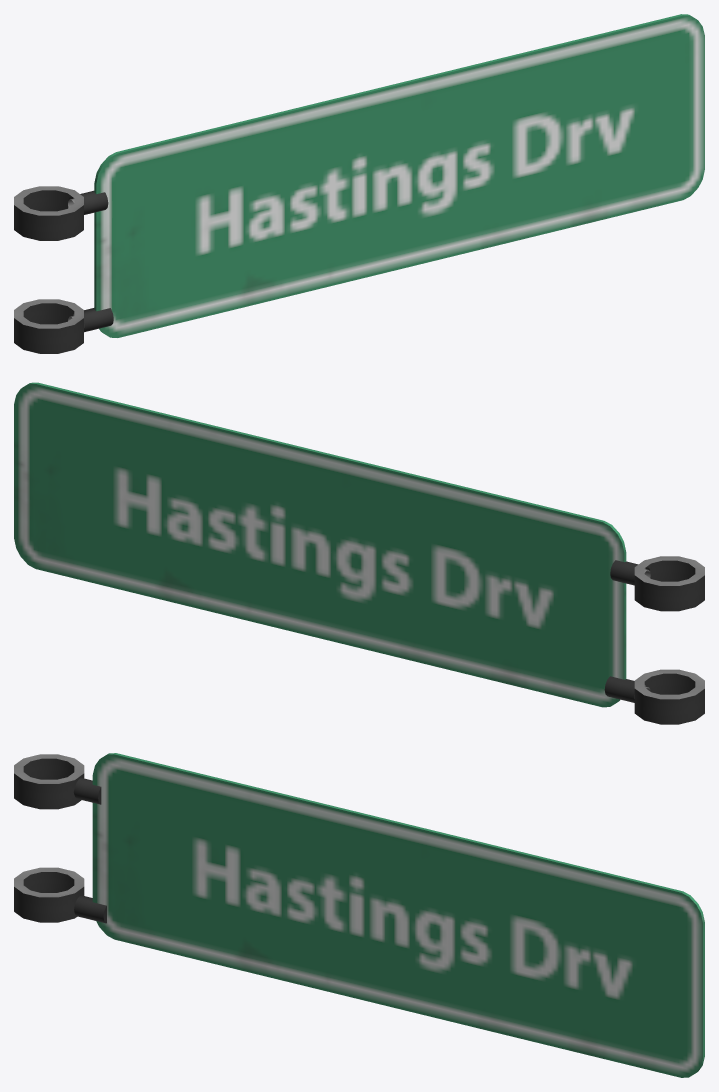
File: Sign_St_Hasings.fbx
3 renders of one model, top to bottom at view 1: azimuth 30°, elevation 25°; view 2: azimuth 150°, elevation 25°; view 3: azimuth 330°, elevation 25°, orthographic.
Parts seen in each view (by area): view 1: Sign_St_Hasings; view 2: Sign_St_Hasings; view 3: Sign_St_Hasings.
Boxes of the visible parts, box(x1,y1,x2,y2) form: Sign_St_Hasings: box(14, 14, 704, 353); Sign_St_Hasings: box(14, 382, 704, 724); Sign_St_Hasings: box(14, 753, 704, 1077).
Bounding box in the file's own units: 159 × 40.91 × 14.06.
